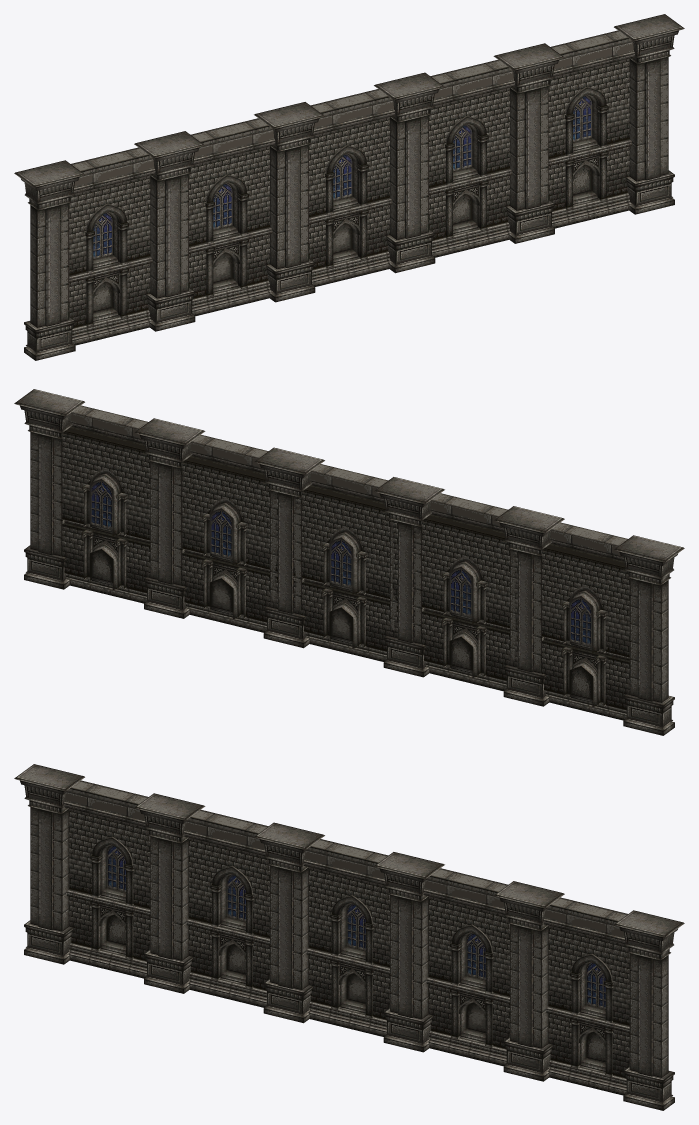
The model's file is EnvBdgMD_Courthouse_A_Indoor_Wall_1F_A.FBX.
3 renders of one model, top to bottom at view 1: azimuth 30°, elevation 25°; view 2: azimuth 150°, elevation 25°; view 3: azimuth 330°, elevation 25°, orthographic.
Parts seen in each view (by area): view 1: EnvBdgMD_Courthouse_A_Indoor_Wall_1F_A; view 2: EnvBdgMD_Courthouse_A_Indoor_Wall_1F_A; view 3: EnvBdgMD_Courthouse_A_Indoor_Wall_1F_A.
Part boxes in pixels (x1,y1,x2,y2): EnvBdgMD_Courthouse_A_Indoor_Wall_1F_A: (14,14,684,360); EnvBdgMD_Courthouse_A_Indoor_Wall_1F_A: (14,389,684,735); EnvBdgMD_Courthouse_A_Indoor_Wall_1F_A: (14,764,684,1110).
Bounding box in the file's own units: 3260 × 855 × 170.
